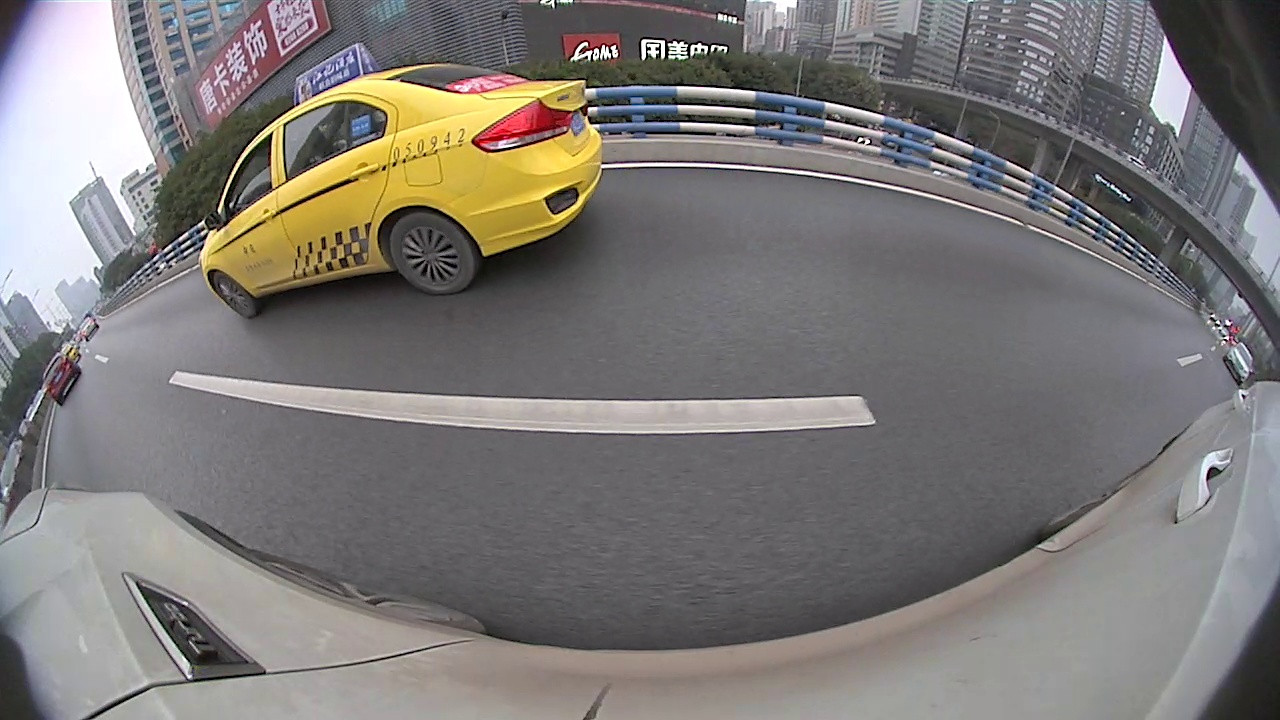bus: (667, 150, 694, 179)
car: (177, 136, 512, 328), (674, 111, 989, 287), (928, 157, 1073, 287), (1063, 209, 1176, 322), (481, 150, 572, 210), (602, 145, 676, 204), (558, 159, 597, 194)
front: (486, 192, 511, 240), (677, 181, 694, 220)
rear: (327, 230, 395, 316), (758, 197, 802, 272), (1086, 271, 1123, 313), (541, 179, 551, 211)
